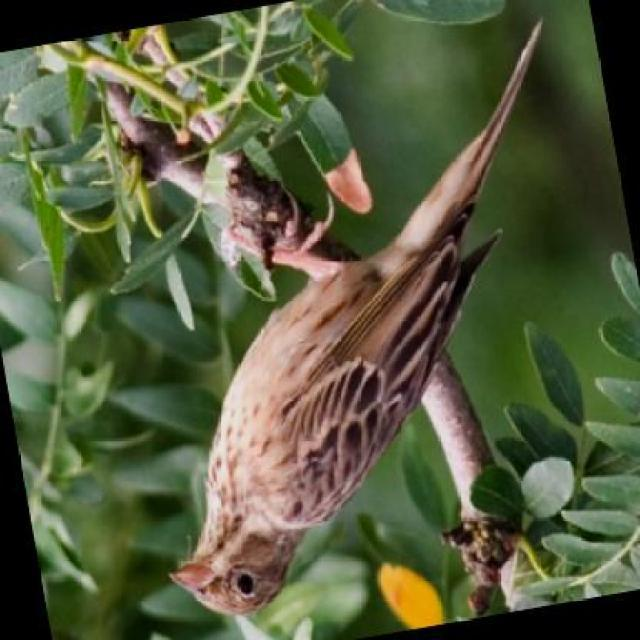Bird: (187, 74, 544, 624)
